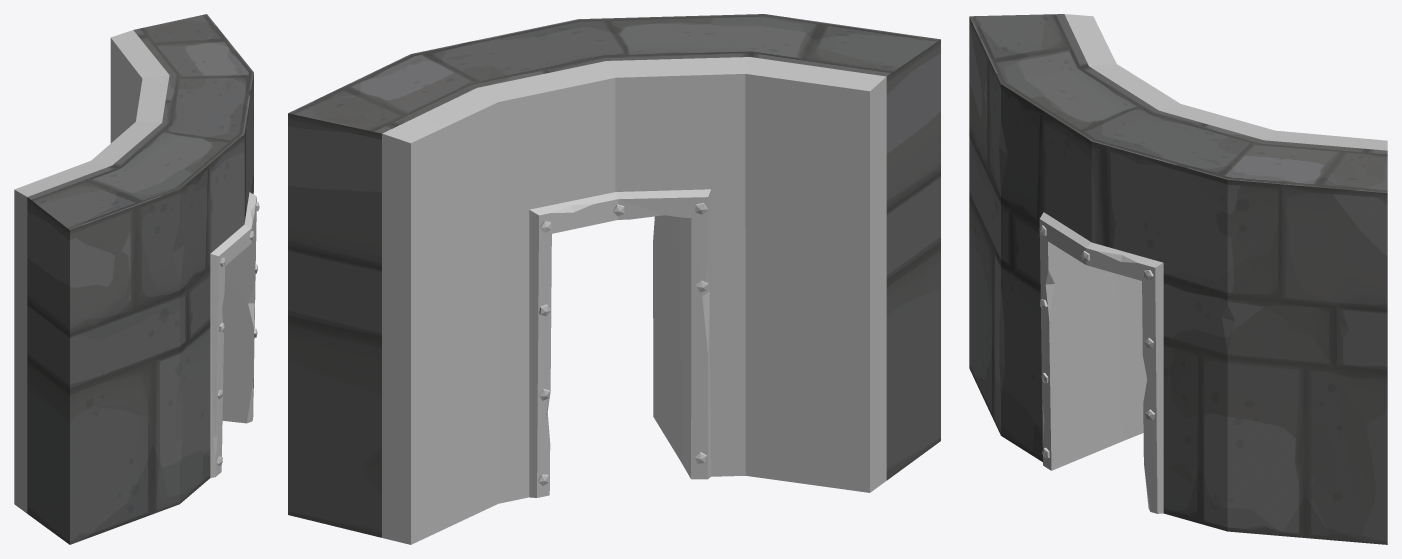
File: SM_Bld_Wall_L_Curve_Door_02.fbx
3 views of the same model, side by side, from view 1: azimuth 30°, elevation 25°; view 2: azimuth 150°, elevation 25°; view 3: azimuth 270°, elevation 25° (orthographic). The views are drawn at different scales.
Parts seen in each view (by area): view 1: SM_Bld_Wall_L_Curve_Door_02; view 2: SM_Bld_Wall_L_Curve_Door_02; view 3: SM_Bld_Wall_L_Curve_Door_02.
Part boxes in pixels (left/top/right/bottom): SM_Bld_Wall_L_Curve_Door_02: left=14, top=14, right=259, bottom=544; SM_Bld_Wall_L_Curve_Door_02: left=288, top=14, right=940, bottom=544; SM_Bld_Wall_L_Curve_Door_02: left=969, top=14, right=1387, bottom=544.
Size of the model in its own units: 324 by 302 by 324.
